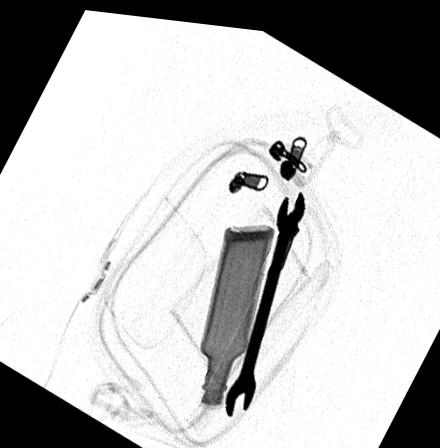Wrench: (222, 180, 305, 411)
